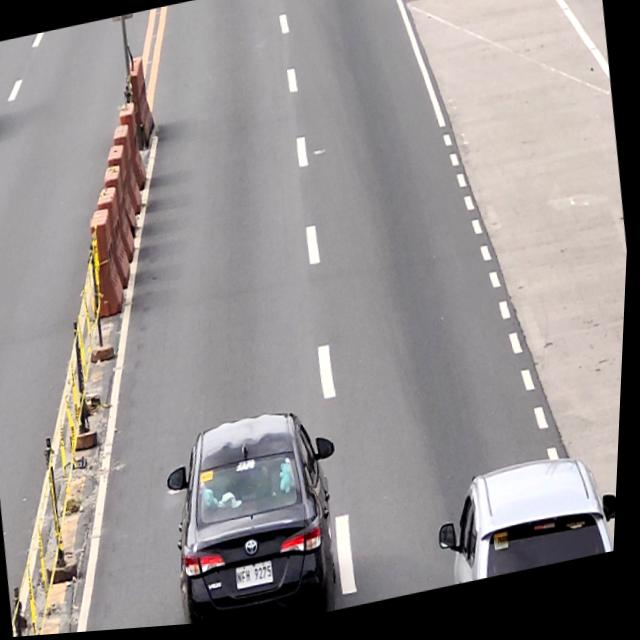Car: (161, 401, 364, 629), (434, 453, 623, 595)
License-Plate: (239, 565, 280, 593)
